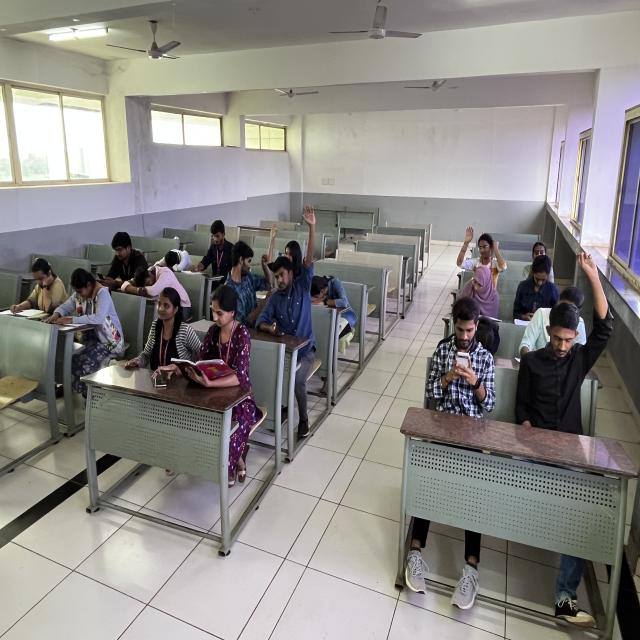Hand Rising: (512, 250, 614, 450), (255, 220, 336, 323), (251, 213, 330, 284), (452, 221, 520, 285)
Reading: (180, 291, 268, 411), (56, 268, 125, 356), (11, 248, 72, 342)
Sleeping: (116, 258, 192, 323), (445, 300, 517, 362), (299, 260, 360, 328), (150, 232, 207, 282)
Using Phone: (429, 296, 508, 404), (86, 226, 152, 306), (512, 258, 566, 324)
Writing: (519, 285, 588, 368), (184, 220, 251, 293)
